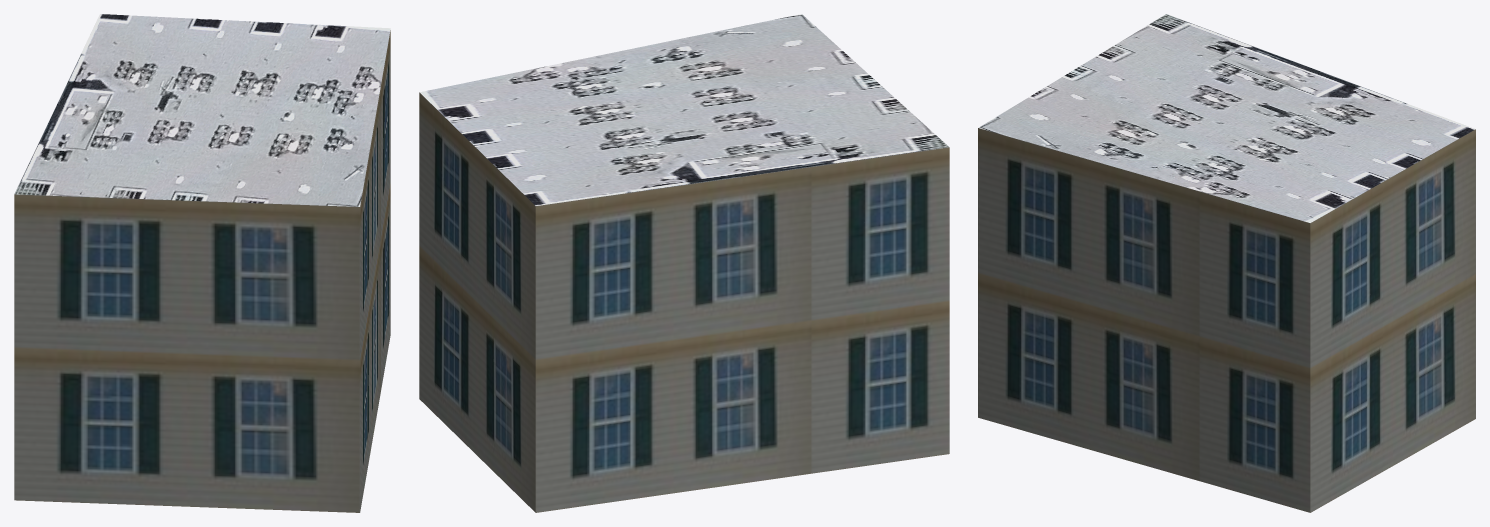
File: ResTex__224.fbx
3 renders of one model, left to right at view 1: azimuth 30°, elevation 25°; view 2: azimuth 150°, elevation 25°; view 3: azimuth 270°, elevation 25°, orthographic. The views are drawn at different scales.
Visible parts, largest first — view 1: CityEngineMaterial_7_m, CityEngineMaterial_15_m; view 2: CityEngineMaterial_7_m, CityEngineMaterial_15_m; view 3: CityEngineMaterial_7_m, CityEngineMaterial_15_m.
Boxes of the visible parts, x1,y1,x2,y2 form: CityEngineMaterial_7_m: [14, 30, 390, 512]; CityEngineMaterial_15_m: [14, 14, 390, 206]; CityEngineMaterial_7_m: [419, 92, 949, 512]; CityEngineMaterial_15_m: [420, 14, 948, 205]; CityEngineMaterial_7_m: [978, 128, 1475, 512]; CityEngineMaterial_15_m: [978, 14, 1475, 222].
Size of the model in its own units: 9.29 by 6 by 9.34.
2 materials, 2 textured.
